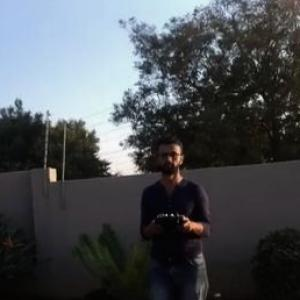follow: (133, 129, 215, 299)
